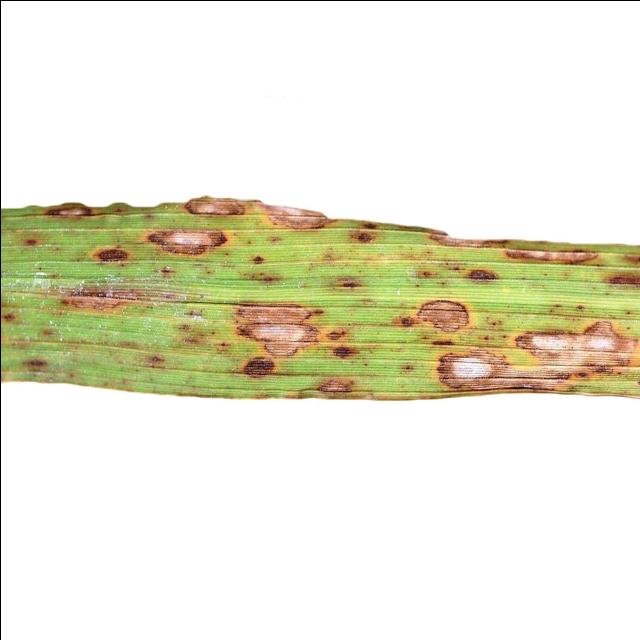Leaf blast: (0, 171, 640, 448)
